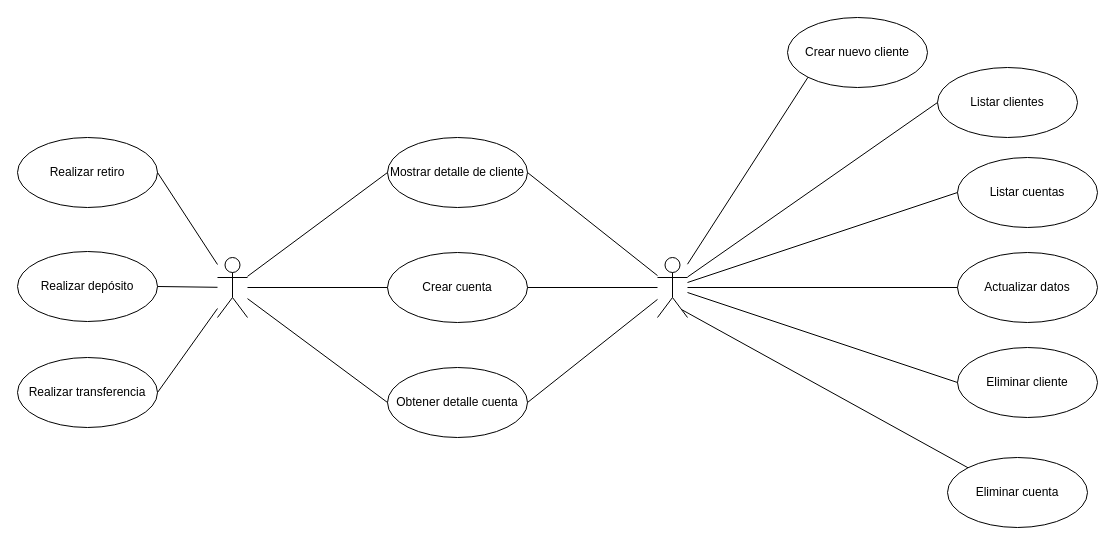
Some shapes in this 1115 by 545 pixel diagram are drawn without their labels. The shapes that lost their labels are listed below. From the top down, each one's centre as x and y in pixels, then its label:
At (x=232, y=287): "Cliente".
At (x=672, y=287): "Empleado banco".
